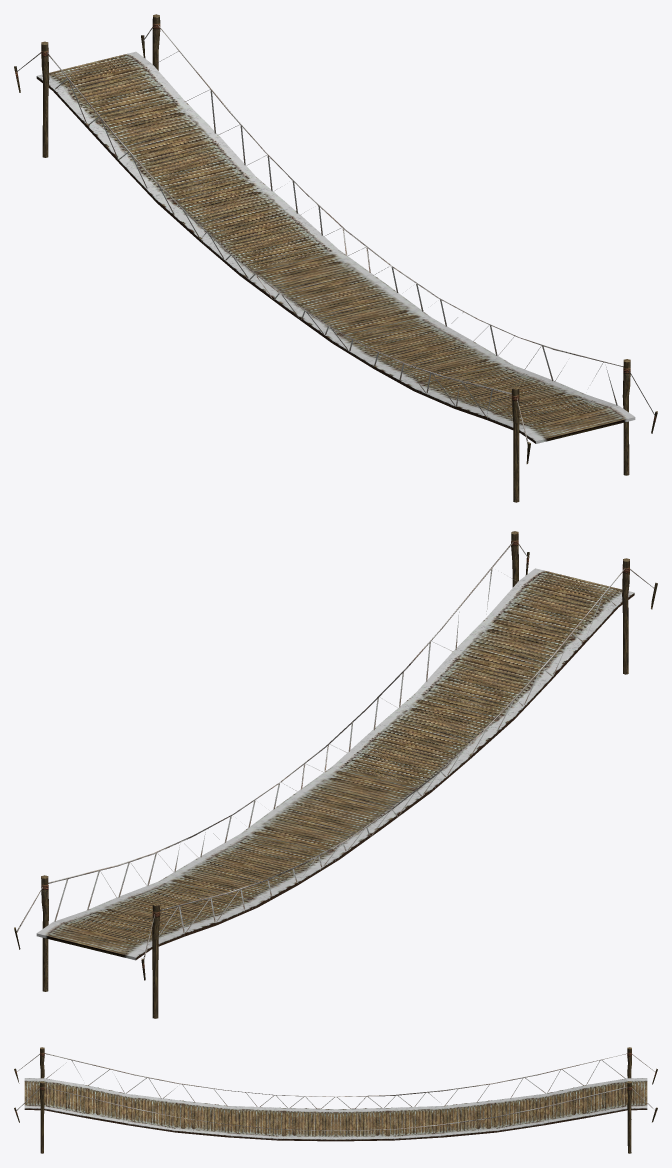
Rendered from general_obj_suspension bridge01_lod_01.fbx.
3 renders of one model, top to bottom at view 1: azimuth 30°, elevation 25°; view 2: azimuth 150°, elevation 25°; view 3: azimuth 270°, elevation 25°, orthographic. The views are drawn at different scales.
Parts seen in each view (by area): view 1: Sphere01; view 2: Sphere01; view 3: Sphere01.
Boxes of the visible parts, x1=… form: Sphere01: x1=14, y1=14, x2=657, y2=502; Sphere01: x1=14, y1=531, x2=657, y2=1018; Sphere01: x1=14, y1=1047, x2=657, y2=1153.
Bounding box in the file's own units: 10.46 × 8.8 × 71.77.
